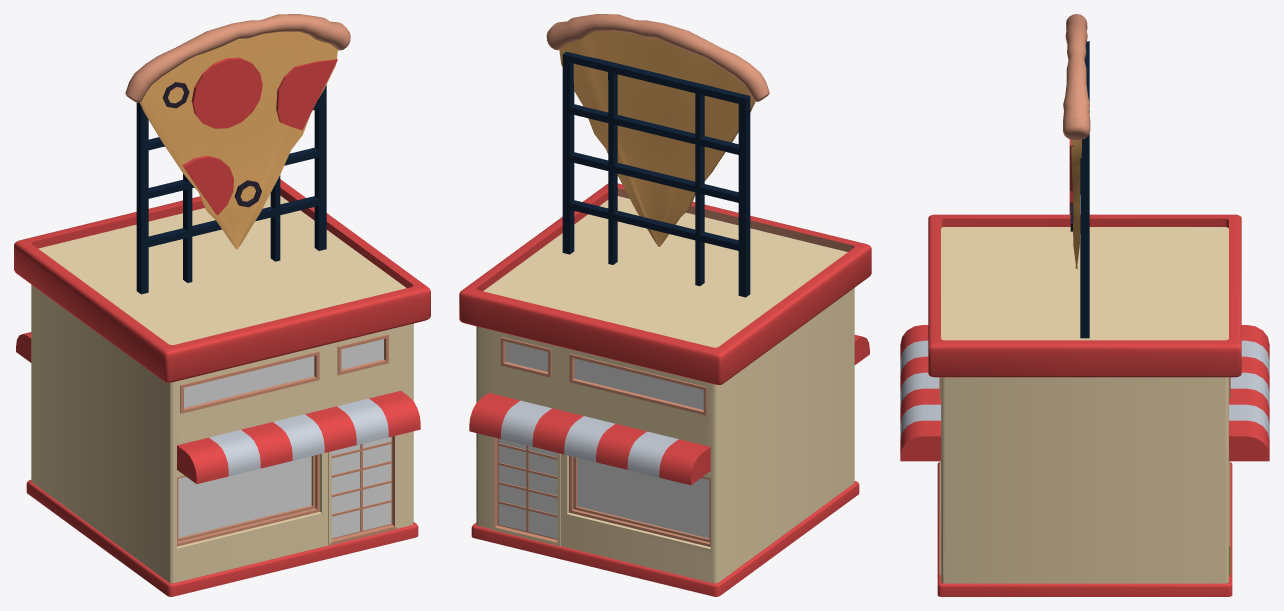
Rendered from commercial-building-pizza-shop.fbx.
3 renders of one model, left to right at view 1: azimuth 30°, elevation 25°; view 2: azimuth 150°, elevation 25°; view 3: azimuth 270°, elevation 25°, orthographic. The views are drawn at different scales.
Visible parts, largest first — view 1: commercial-building-pizza-shop; view 2: commercial-building-pizza-shop; view 3: commercial-building-pizza-shop.
Part boxes in pixels (box(x1,y1,x2,y2)): commercial-building-pizza-shop: box(14, 14, 430, 596); commercial-building-pizza-shop: box(459, 14, 871, 596); commercial-building-pizza-shop: box(900, 14, 1269, 596).
Bounding box in the file's own units: 6.21 × 10.96 × 7.31.
